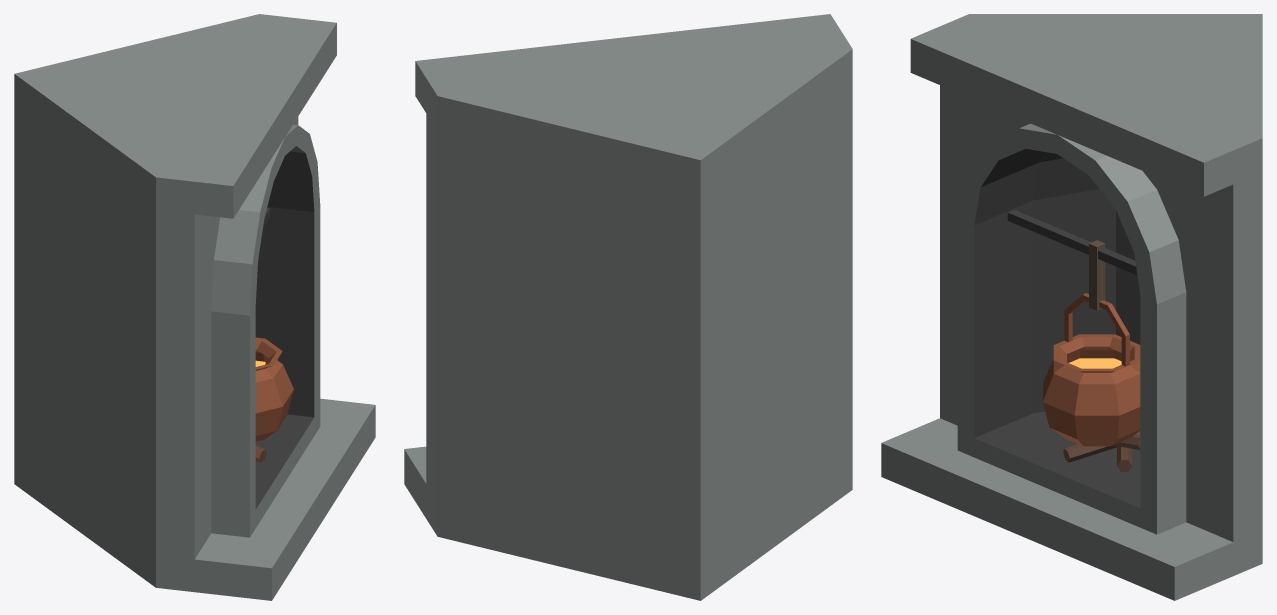
The picture shows the model from 3 angles, left to right: view 1: azimuth 30°, elevation 25°; view 2: azimuth 150°, elevation 25°; view 3: azimuth 270°, elevation 25°; orthographic projection. The views are drawn at different scales.
Visible parts, largest first — view 1: FirePlace_1.3x1.3x1.6_3, FirePlace_1.3x1.3x1.6_4, FirePlace_1.3x1.3x1.6_0; view 2: FirePlace_1.3x1.3x1.6_3; view 3: FirePlace_1.3x1.3x1.6_3, FirePlace_1.3x1.3x1.6_4, FirePlace_1.3x1.3x1.6_0, FirePlace_1.3x1.3x1.6_5, FirePlace_1.3x1.3x1.6_2.
Part boxes in pixels (x1,y1,x2,y2): FirePlace_1.3x1.3x1.6_3: (14, 14, 375, 600); FirePlace_1.3x1.3x1.6_4: (255, 146, 314, 509); FirePlace_1.3x1.3x1.6_0: (255, 337, 293, 462); FirePlace_1.3x1.3x1.6_3: (404, 14, 852, 600); FirePlace_1.3x1.3x1.6_3: (881, 14, 1262, 600); FirePlace_1.3x1.3x1.6_4: (974, 148, 1140, 507); FirePlace_1.3x1.3x1.6_0: (1043, 293, 1140, 465); FirePlace_1.3x1.3x1.6_5: (1063, 431, 1140, 471); FirePlace_1.3x1.3x1.6_2: (1089, 240, 1105, 310).
Bounding box in the file's own units: 1.3 × 1.6 × 1.3.
